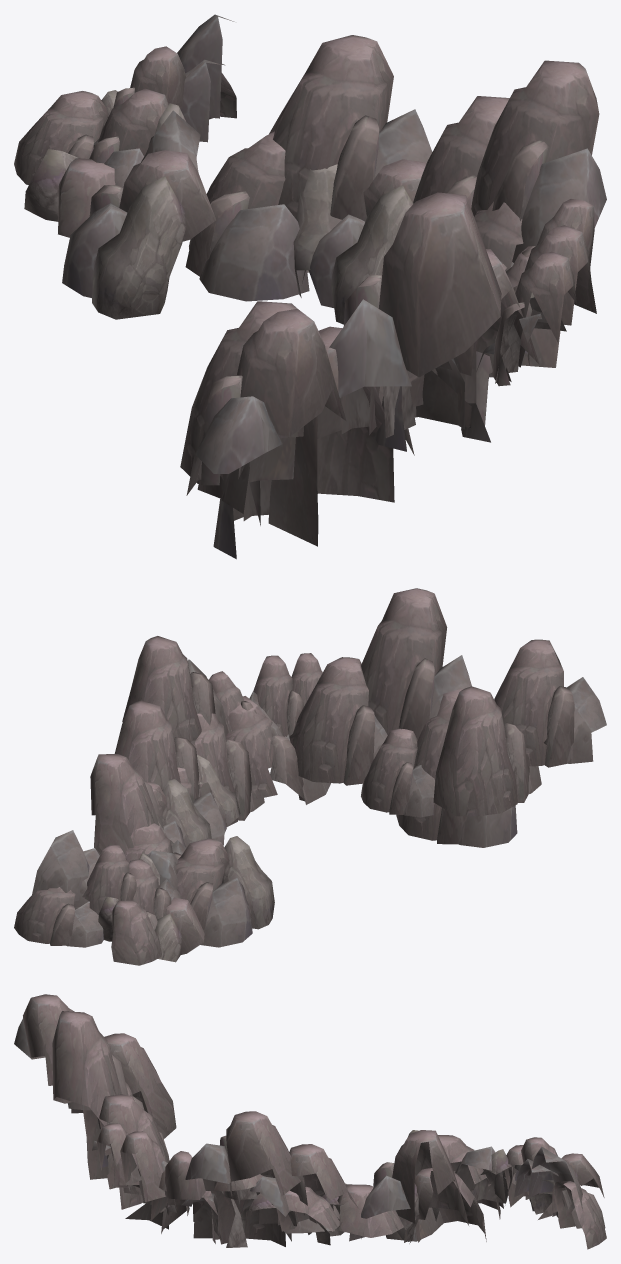
File: area_01_7.fbx
3 renders of one model, top to bottom at view 1: azimuth 30°, elevation 25°; view 2: azimuth 150°, elevation 25°; view 3: azimuth 270°, elevation 25°, orthographic. The views are drawn at different scales.
Parts seen in each view (by area): view 1: area_01_7; view 2: area_01_7; view 3: area_01_7.
Part boxes in pixels (x1=…): area_01_7: x1=14, y1=14, x2=606, y2=559; area_01_7: x1=14, y1=588, x2=606, y2=965; area_01_7: x1=14, y1=994, x2=606, y2=1249.
Bounding box in the file's own units: 113 × 62.6 × 168.
